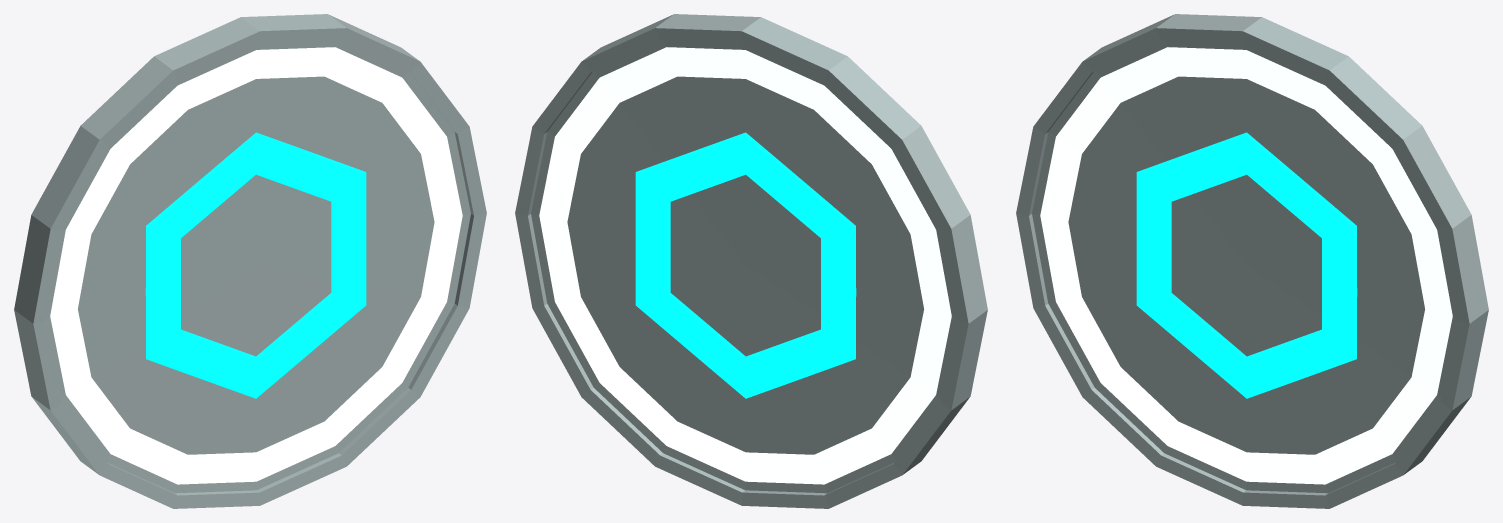
Rendered from coin-silver.glb.
3 renders of one model, left to right at view 1: azimuth 30°, elevation 25°; view 2: azimuth 150°, elevation 25°; view 3: azimuth 330°, elevation 25°, orthographic.
Parts seen in each view (by area): view 1: parkour-coin; view 2: parkour-coin; view 3: parkour-coin.
Boxes of the visible parts, <box> form: parkour-coin: <box>14,14,486,508</box>; parkour-coin: <box>515,14,987,508</box>; parkour-coin: <box>1016,14,1488,508</box>.
Bounding box in the file's own units: 2.12 × 2.12 × 0.1558.
